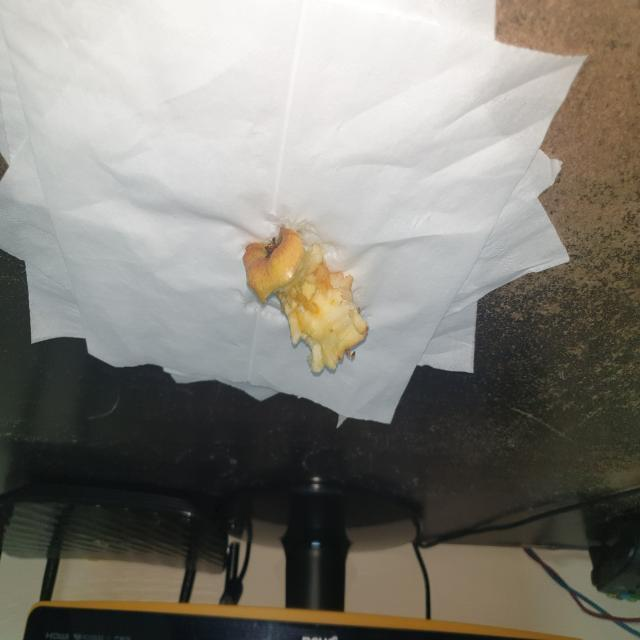apple: (238, 218, 378, 389)
